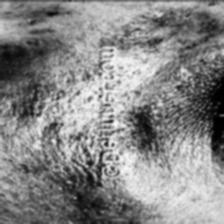Unclassified: (23, 96, 59, 134), (114, 192, 134, 214)
